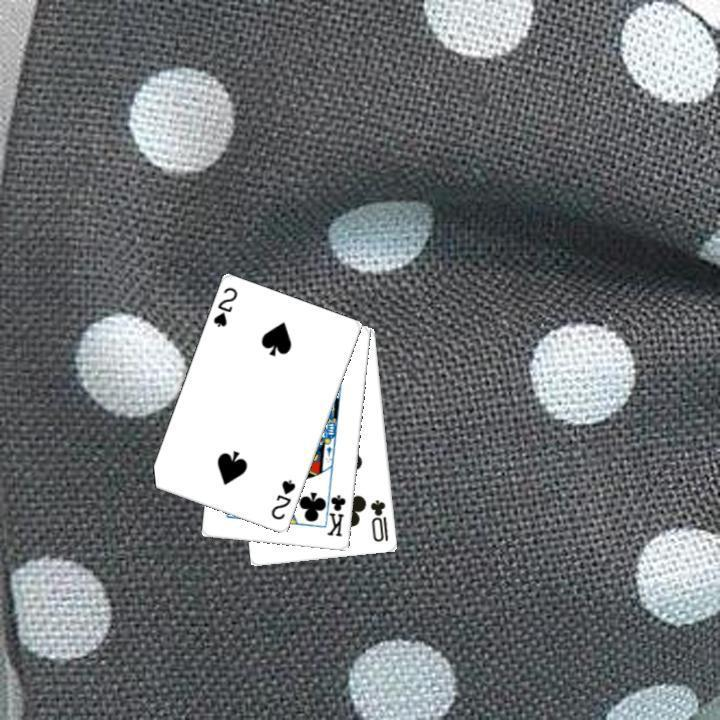10: (367, 495, 391, 544)
2: (267, 475, 298, 522), (209, 283, 240, 330)
K: (320, 485, 348, 538)
